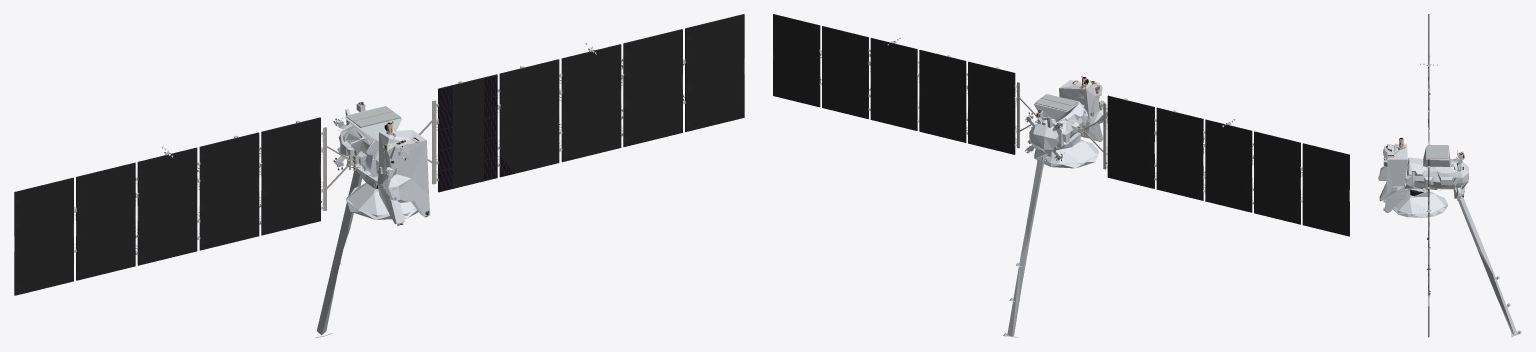
The model's file is europa-clipper-preview.glb.
3 renders of one model, left to right at view 1: azimuth 30°, elevation 25°; view 2: azimuth 150°, elevation 25°; view 3: azimuth 270°, elevation 25°, orthographic. The views are drawn at different scales.
Parts seen in each view (by area): view 1: solar_cells_chassis, blanket_hideable, solar_cells, blanket_soft, bus_exposed; view 2: solar_cells_chassis, blanket_hideable, blanket_soft, bus_exposed; view 3: blanket_hideable, blanket_soft, solar_cells_chassis, bus_exposed, blanket_hard.
Part boxes in pixels (box(x1,y1,x2,y2)): solar_cells_chassis: box(14, 14, 744, 295); blanket_hideable: box(317, 104, 430, 335); solar_cells: box(439, 75, 513, 191); blanket_soft: box(335, 109, 415, 217); bus_exposed: box(333, 106, 406, 225); solar_cells_chassis: box(773, 14, 1349, 236); blanket_hideable: box(1007, 80, 1107, 336); blanket_soft: box(1026, 98, 1097, 165); bus_exposed: box(1025, 94, 1101, 160); blanket_hideable: box(1378, 143, 1516, 334); blanket_soft: box(1395, 145, 1468, 215); solar_cells_chassis: box(1426, 14, 1430, 337); bus_exposed: box(1383, 145, 1463, 200); blanket_hard: box(1393, 157, 1456, 217).
Bounding box in the file's own units: 30.5 × 11.22 × 7.4.
Materials: 16 (13 with a texture image).
